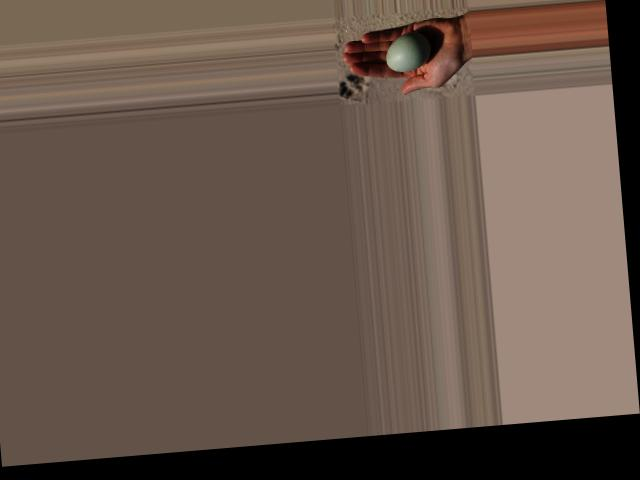egg: (382, 30, 431, 72)
